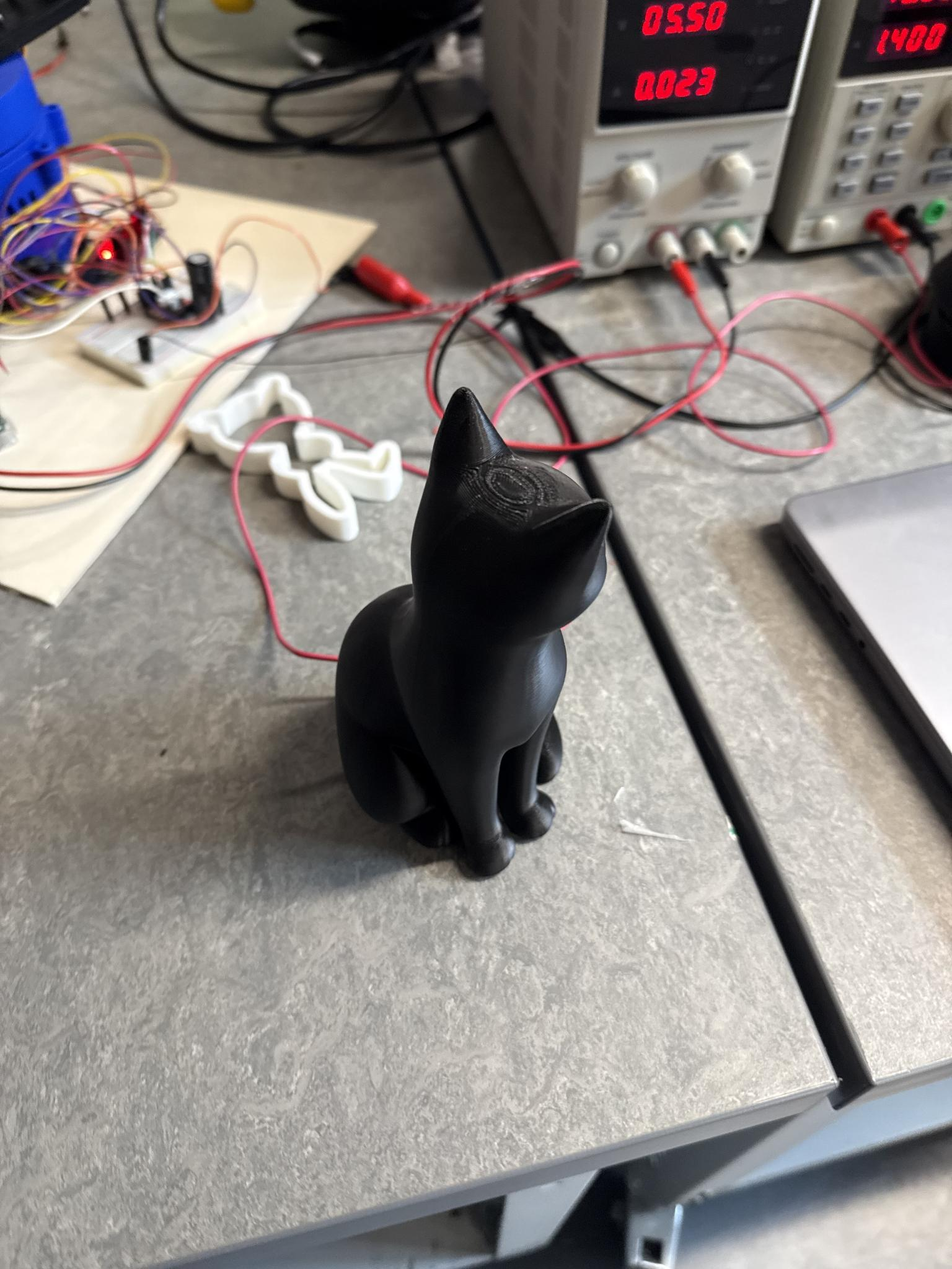cat: (335, 388, 612, 877)
